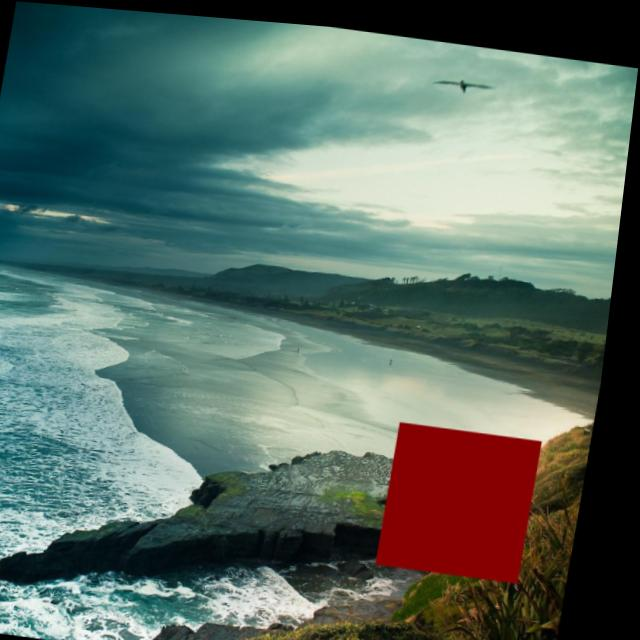RedSquare: (379, 404, 563, 585)
